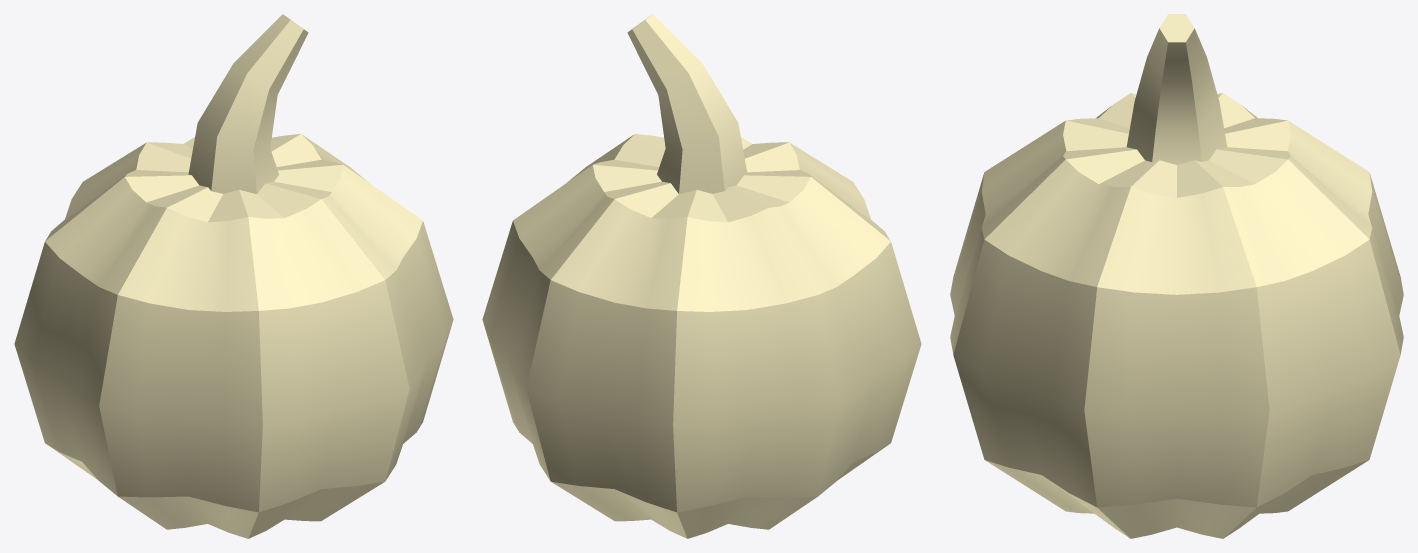
The model's file is Projectile pumpkin (UNTEXTURED).fbx.
3 renders of one model, left to right at view 1: azimuth 30°, elevation 25°; view 2: azimuth 150°, elevation 25°; view 3: azimuth 270°, elevation 25°, orthographic. The views are drawn at different scales.
Parts seen in each view (by area): view 1: small pumpkin; view 2: small pumpkin; view 3: small pumpkin.
Boxes of the visible parts, x1,y1,x2,y2 form: small pumpkin: (14, 14, 453, 538); small pumpkin: (482, 14, 921, 538); small pumpkin: (950, 14, 1403, 538).
Bounding box in the file's own units: 23.02 × 28.34 × 23.02.
